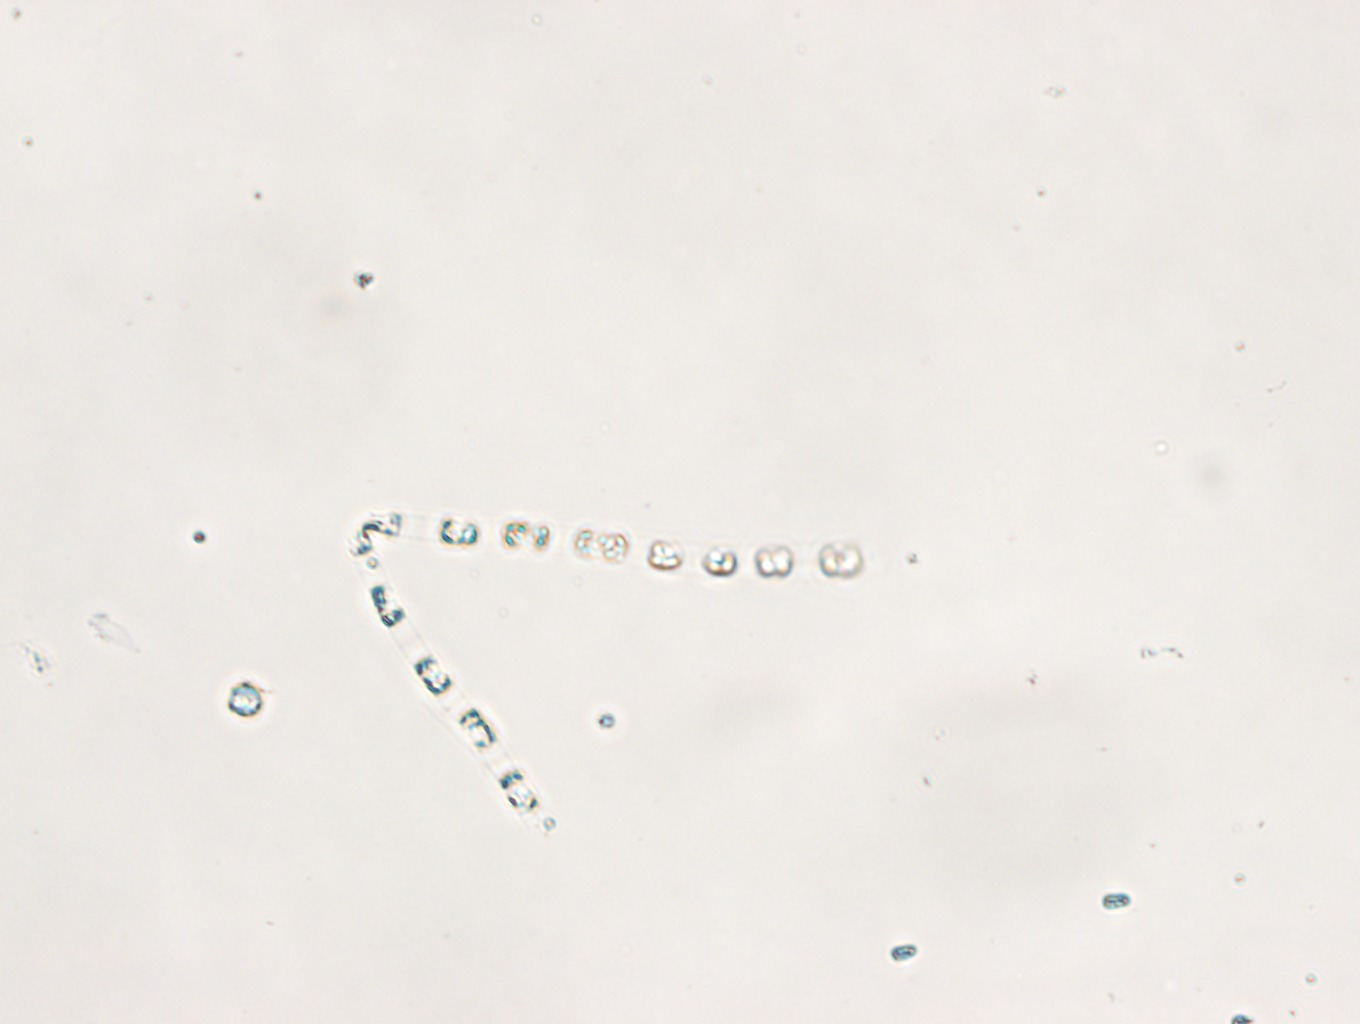skeletonema: (346, 508, 865, 838)
